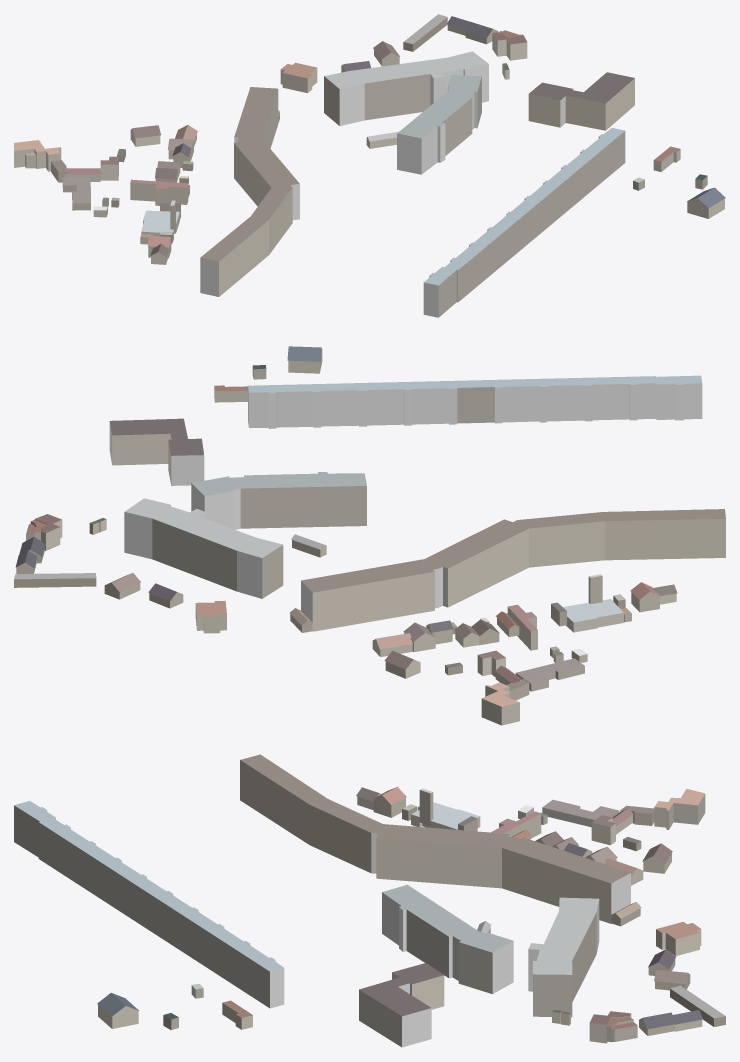
3 renders of one model, top to bottom at view 1: azimuth 30°, elevation 25°; view 2: azimuth 150°, elevation 25°; view 3: azimuth 270°, elevation 25°, orthographic. The views are drawn at different scales.
Parts seen in each view (by area): view 1: tuile; view 2: tuile; view 3: tuile.
Part boxes in pixels (x1,y1,x2,y2): tuile: (14, 14, 725, 317); tuile: (14, 346, 725, 725); tuile: (14, 754, 725, 1047).
Bounding box in the file's own units: 269 × 34.02 × 291.
